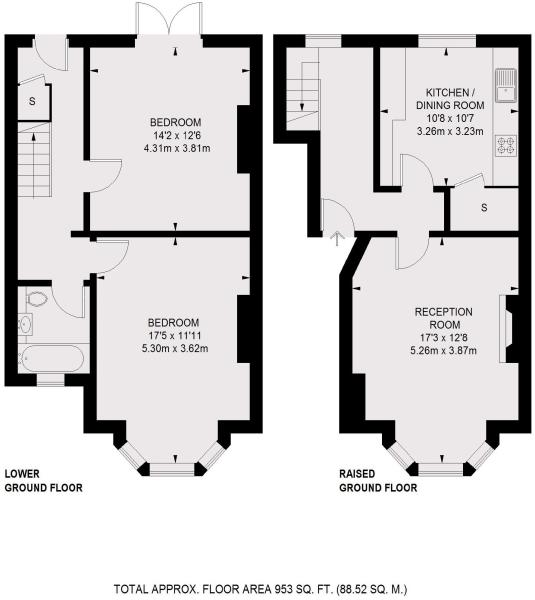GrossArea: (111, 581, 411, 598)
